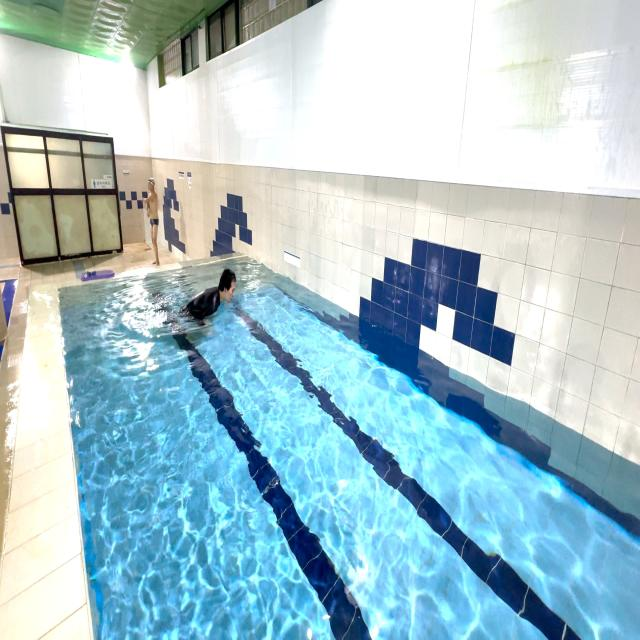Swimming: (177, 255, 245, 356)
